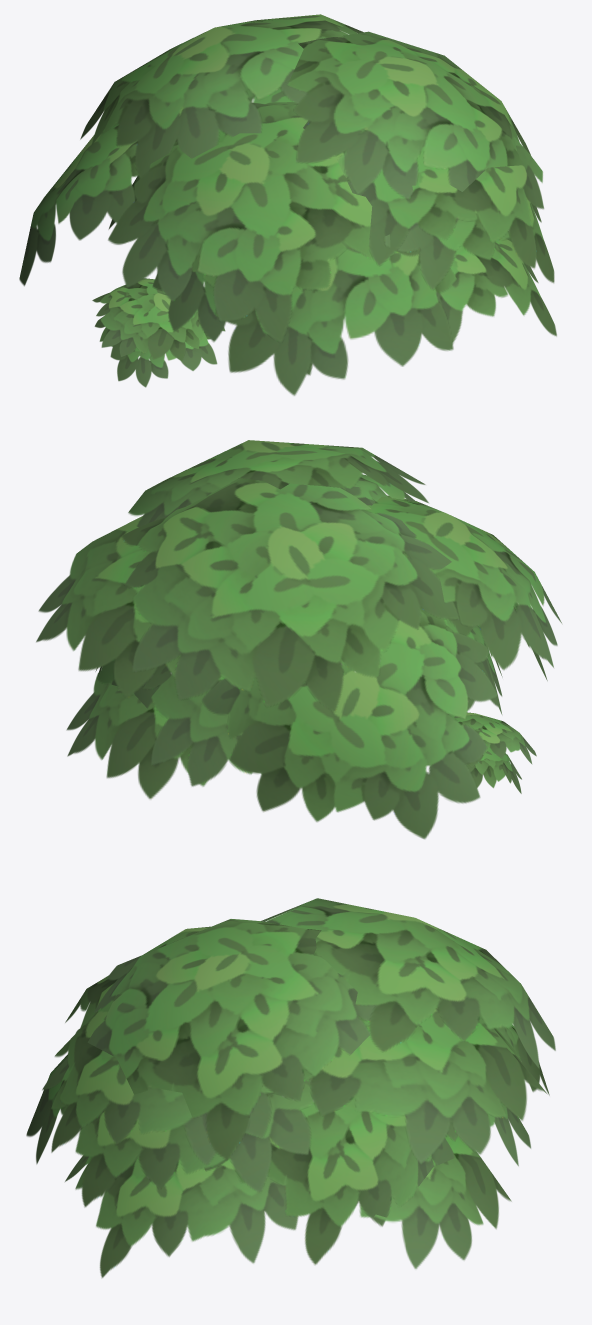
File: kale-plant.glb
3 views of the same model, one above another, from view 1: azimuth 30°, elevation 25°; view 2: azimuth 150°, elevation 25°; view 3: azimuth 270°, elevation 25° (orthographic). The views are drawn at different scales.
Parts seen in each view (by area): view 1: Bush_Large; view 2: Bush_Large; view 3: Bush_Large.
Part boxes in pixels (box(x1,y1,x2,y2)): Bush_Large: box(19, 14, 556, 395); Bush_Large: box(36, 440, 561, 839); Bush_Large: box(26, 898, 555, 1277).
Bounding box in the file's own units: 1 × 0.5743 × 0.9982.
1 material, 1 textured.
